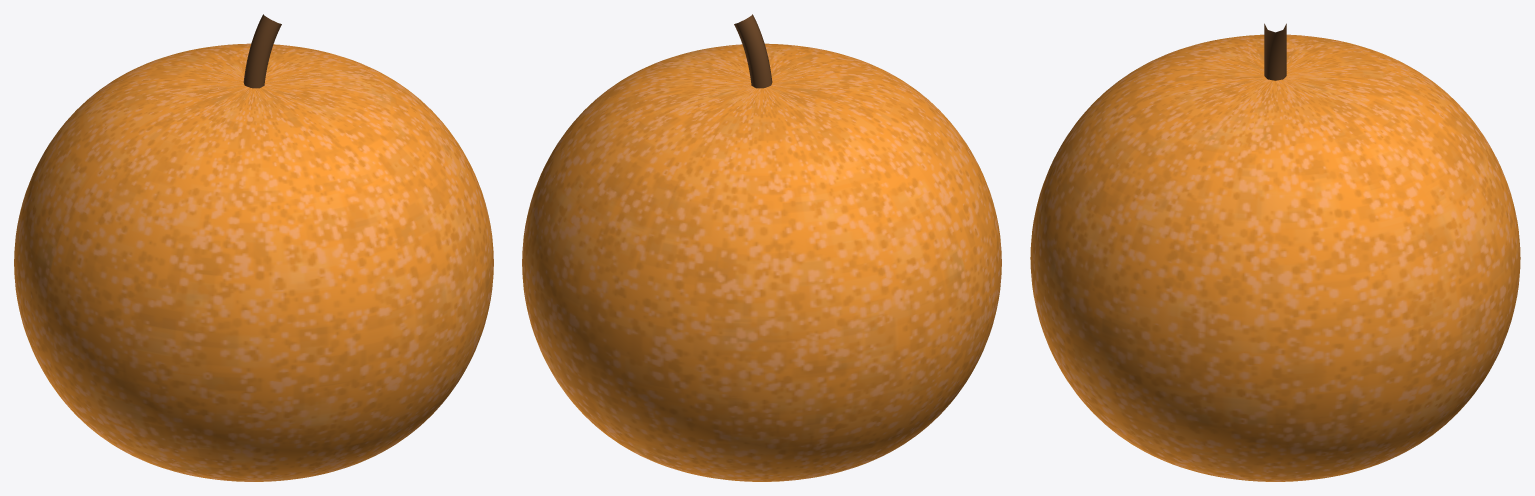
Rendered from orange.glb.
3 views of the same model, side by side, from view 1: azimuth 30°, elevation 25°; view 2: azimuth 150°, elevation 25°; view 3: azimuth 270°, elevation 25° (orthographic). The views are drawn at different scales.
Bounding box in the file's own units: 0.17 × 0.1652 × 0.17.
2 materials, 1 textured.
